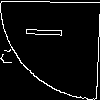I: (25, 24, 73, 40)
